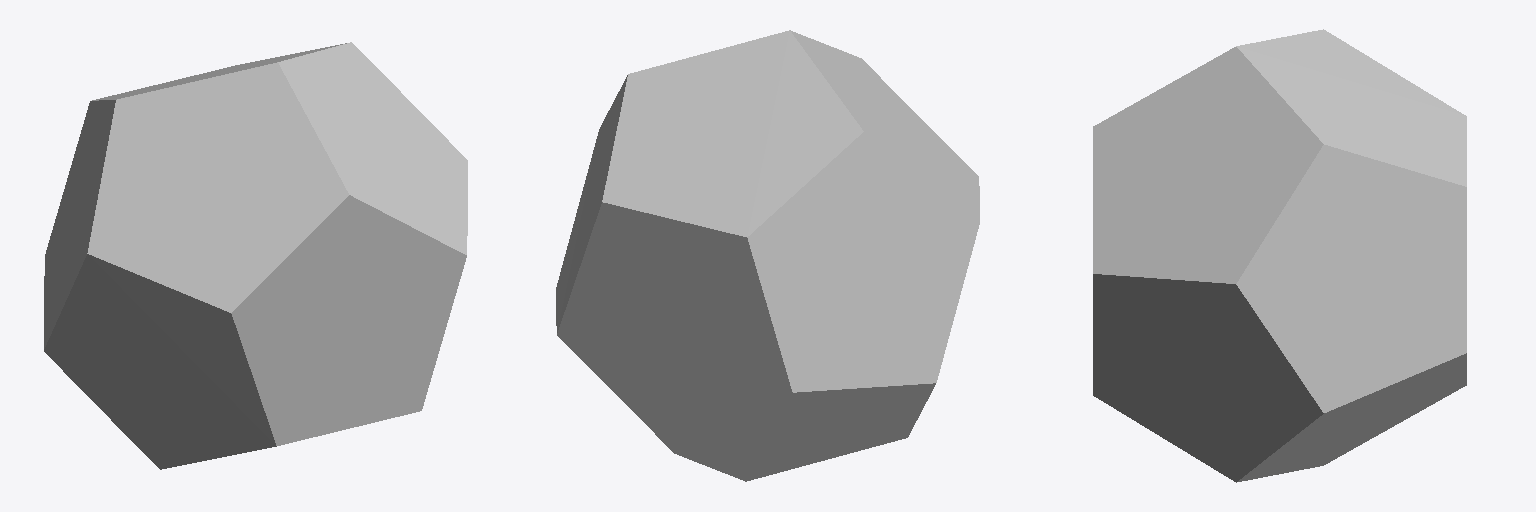
Rendered from dodo.obj.
3 renders of one model, left to right at view 1: azimuth 30°, elevation 25°; view 2: azimuth 150°, elevation 25°; view 3: azimuth 270°, elevation 25°, orthographic.
Visible parts, largest first — view 1: obj1.010; view 2: obj1.010; view 3: obj1.010.
Boxes of the visible parts, box(x1,y1,x2,y2) form: obj1.010: box(44, 42, 467, 469); obj1.010: box(556, 30, 979, 481); obj1.010: box(1093, 29, 1466, 482).
Bounding box in the file's own units: 462 × 486 × 392.